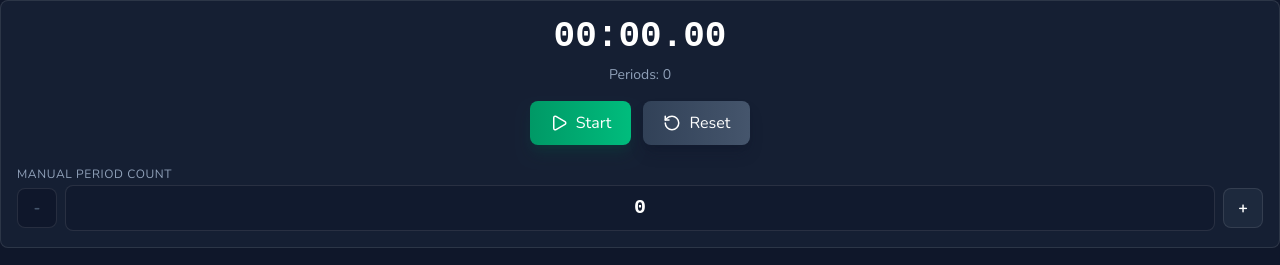
it: Stopwatch › resets time and periods and stops the timer
The width and height of the screenshot is (1280, 265).
Click the button "Start": (581,123) [530, 101, 631, 145]
Wait 500 ms
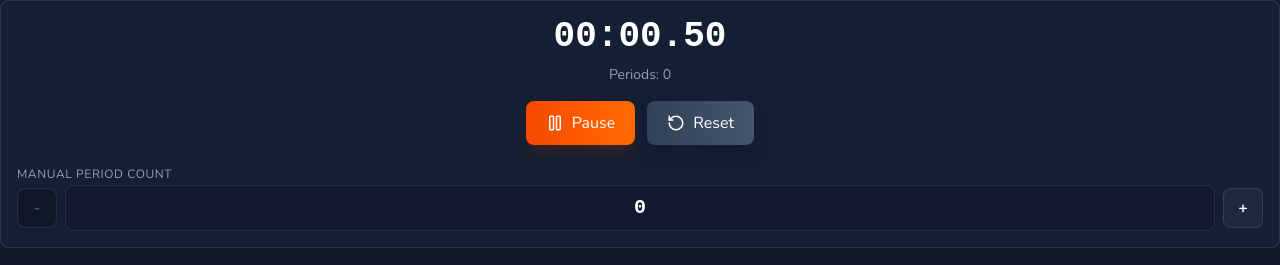
Click the button "+": (1243,208) [1223, 188, 1263, 228]
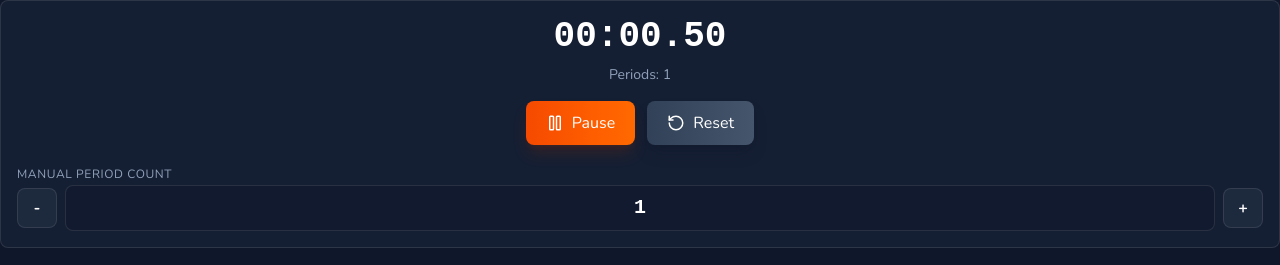
Click the button "Reset": (701,123) [647, 101, 754, 145]
Wait 500 ms
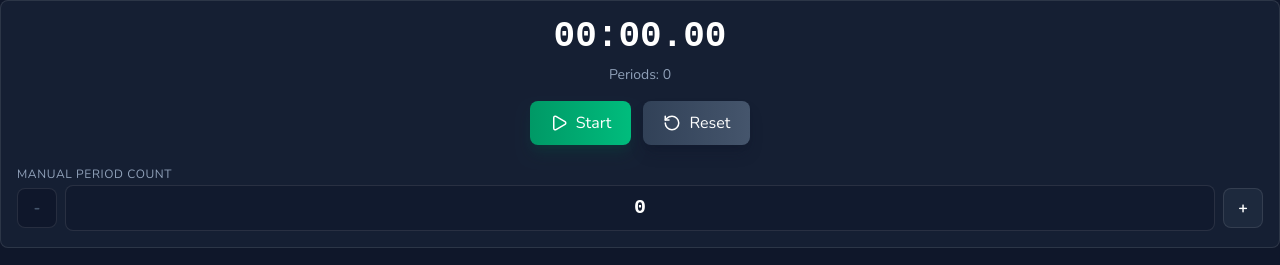
Result: the text "00:00.00" is shown at [554, 16, 726, 57]
Result: the text "Periods: 0" is shown at [609, 65, 671, 84]
Result: the button "Start" is shown at [530, 101, 631, 145]
